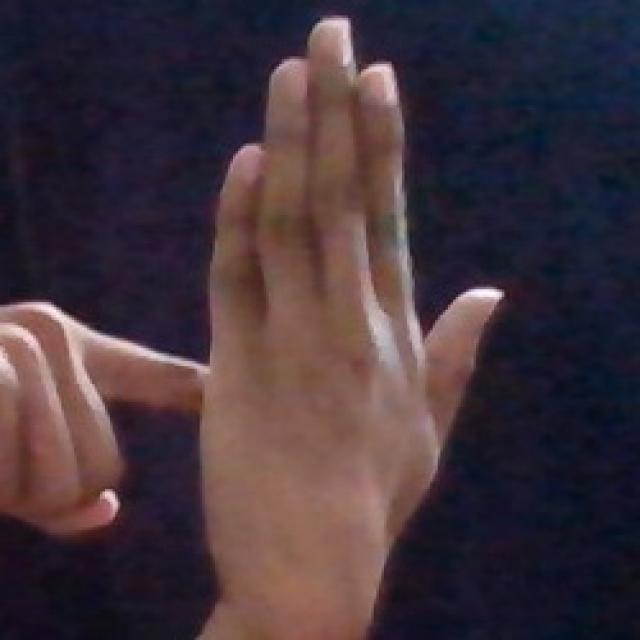Alphabet-R: (0, 22, 516, 640)
